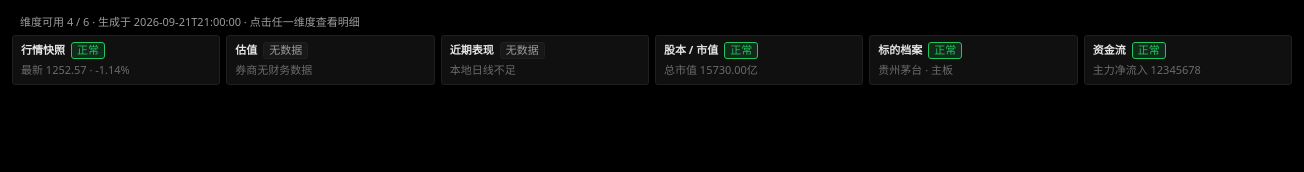
Test: FundamentalsPanel · 6 维一排 + 默认收起 › 不可用的维度：卡片上给短原因，展开后给可操作说明
// 展开后：给「怎么解决」
Click the button titled "展开「估值」明细" at (330, 60), box [226, 34, 435, 85]
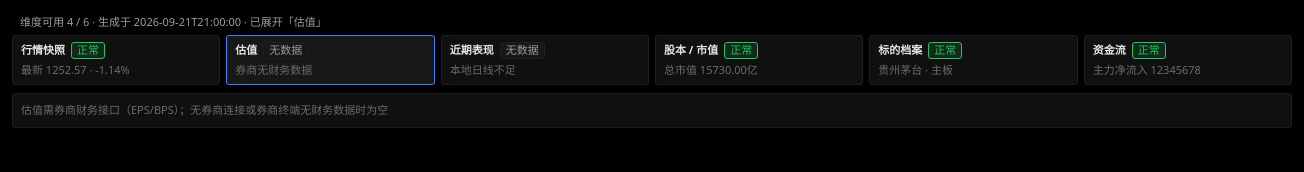
Check: the text "估值需券商财务接口" is shown, box [21, 102, 388, 117]
